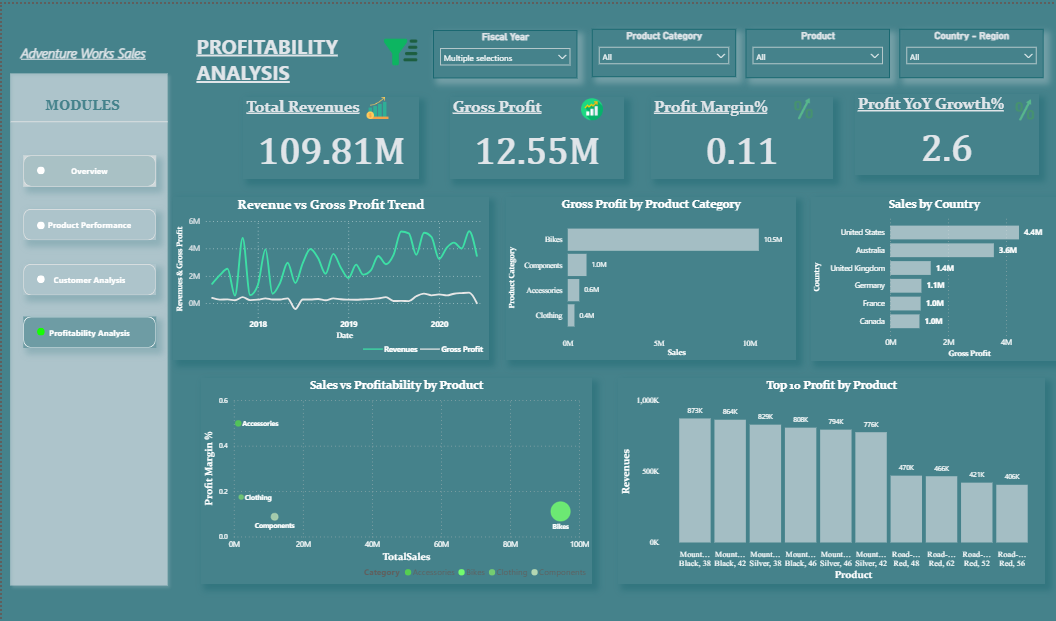

Layout of this report page (visuals, bound fields, positions):
{"tool":"powerbi","page":{"name":"Profitability Analysis","canvas":[1700,1000],"ordinal":3},"visuals":[{"type":"textbox","box":[13.5,57.6,232.3,45.6],"z":0},{"type":"shape","box":[3.8,102.5,270,837.5],"z":1000},{"type":"textbox","box":[56.2,146.2,146.2,41.2],"z":2000},{"type":"textbox","box":[306.7,40,250,100],"z":3000},{"type":"slicer","title":"Product Category","fields":{"Values":["Dim_Product.Category"]},"box":[943.3,40,230,76.7],"z":4000},{"type":"slicer","title":"Product","fields":{"Values":["Dim_Product.Product"]},"box":[1190,39.5,230,78.3],"z":5000},{"type":"slicer","title":"Country - Region","fields":{"Values":["Dim_Customer.Country-Region"]},"box":[1435,39.5,230,78.3],"z":6000},{"type":"card","title":"Total Revenues","fields":{"Values":["Measures_.TotalSales"]},"box":[386.7,148.3,281.7,131.7],"z":7000},{"type":"card","title":"Gross Profit","fields":{"Values":["Measures_.Gross Profit"]},"box":[716.7,148.3,280,131.7],"z":8000},{"type":"card","title":"Profit Margin%","fields":{"Values":["Measures_.Profit Margin %"]},"box":[1038.3,148.3,291.7,131.7],"z":9000},{"type":"card","title":"Profit YoY Growth%","fields":{"Values":["Measures_.Profit YoY Growth %"]},"box":[1364.3,143.3,295,130],"z":10000},{"type":"lineChart","title":"Revenue vs Gross Profit Trend","fields":{"Category":["Dim_Date.Month"],"Y":["Measures_.TotalSales","Measures_.Gross Profit"]},"box":[273.8,308.8,505,262.5],"z":11000},{"type":"image","box":[1260,145,45,43.3],"z":12000},{"type":"image","box":[911.7,145,63.3,45],"z":13000},{"type":"image","box":[563.3,143.3,73.3,45],"z":14000},{"type":"clusteredBarChart","title":"Gross Profit by Product Category ","fields":{"Category":["Dim_Product.Category"],"Y":["Measures_.Gross Profit"]},"box":[805,308.8,465,262.5],"z":15000},{"type":"clusteredBarChart","title":"Sales by Country ","fields":{"Category":["Dim_SalesTerritory.Country"],"Y":["Measures_.Gross Profit"]},"box":[1293.3,308.3,395,263.3],"z":16000},{"type":"image","box":[591.7,42.8,90,70],"z":17000},{"type":"scatterChart","title":"Sales vs Profitability by Product","fields":{"X":["Measures_.TotalSales"],"Y":["Measures_.Profit Margin %"],"Series":["Dim_Product.Category"],"Size":["Measures_.Gross Profit"]},"box":[317,599,626.7,330],"z":18000},{"type":"slicer","title":"Fiscal Year","fields":{"Values":["Dim_Date.Fiscal Year"]},"box":[690,41.7,230,76.7],"z":19000},{"type":"columnChart","title":"Top 10 Profit by Product","fields":{"Y":["Measures_.Gross Profit"],"Category":["Dim_Product.Product"]},"box":[985.3,599,683.3,330],"z":20000},{"type":"pageNavigator","box":[33.8,241.2,212.5,50],"z":21000},{"type":"shape","box":[13.8,181.2,251.2,12.5],"z":22000},{"type":"shape","box":[55,260,12.5,12.5],"z":23000},{"type":"shape","box":[55,347.5,12.5,12.5],"z":24000},{"type":"pageNavigator","box":[33.8,328.8,212.5,50],"z":25000},{"type":"pageNavigator","box":[33.8,415,212.5,50],"z":26000},{"type":"shape","box":[55,433.8,12.5,12.5],"z":27000},{"type":"pageNavigator","box":[33.8,500,212.5,50],"z":28000},{"type":"shape","box":[55,518.8,12.5,12.5],"z":29000},{"type":"image","box":[1614.3,148.3,45,43.3],"z":30000}]}

Visuals, with their boxes in screenshot pixels (x1, y1, x2, y2), scaled from the page's 1700x1000 canvas onto the 1056x621 screenshot:
textbox: bbox=[8, 36, 153, 64]
shape: bbox=[2, 64, 170, 584]
textbox: bbox=[35, 91, 126, 116]
textbox: bbox=[191, 25, 346, 87]
"Product Category" slicer: bbox=[586, 25, 729, 72]
"Product" slicer: bbox=[739, 25, 882, 73]
"Country - Region" slicer: bbox=[891, 25, 1034, 73]
"Total Revenues" card: bbox=[240, 92, 415, 174]
"Gross Profit" card: bbox=[445, 92, 619, 174]
"Profit Margin%" card: bbox=[645, 92, 826, 174]
"Profit YoY Growth%" card: bbox=[847, 89, 1031, 170]
"Revenue vs Gross Profit Trend" lineChart: bbox=[170, 192, 484, 355]
image: bbox=[783, 90, 811, 117]
image: bbox=[566, 90, 606, 118]
image: bbox=[350, 89, 395, 117]
"Gross Profit by Product Category " clusteredBarChart: bbox=[500, 192, 789, 355]
"Sales by Country " clusteredBarChart: bbox=[803, 191, 1049, 355]
image: bbox=[368, 27, 423, 70]
"Sales vs Profitability by Product" scatterChart: bbox=[197, 372, 586, 577]
"Fiscal Year" slicer: bbox=[429, 26, 571, 74]
"Top 10 Profit by Product" columnChart: bbox=[612, 372, 1036, 577]
pageNavigator: bbox=[21, 150, 153, 181]
shape: bbox=[9, 113, 165, 120]
shape: bbox=[34, 161, 42, 169]
shape: bbox=[34, 216, 42, 224]
pageNavigator: bbox=[21, 204, 153, 235]
pageNavigator: bbox=[21, 258, 153, 289]
shape: bbox=[34, 269, 42, 277]
pageNavigator: bbox=[21, 310, 153, 342]
shape: bbox=[34, 322, 42, 330]
image: bbox=[1003, 92, 1031, 119]
